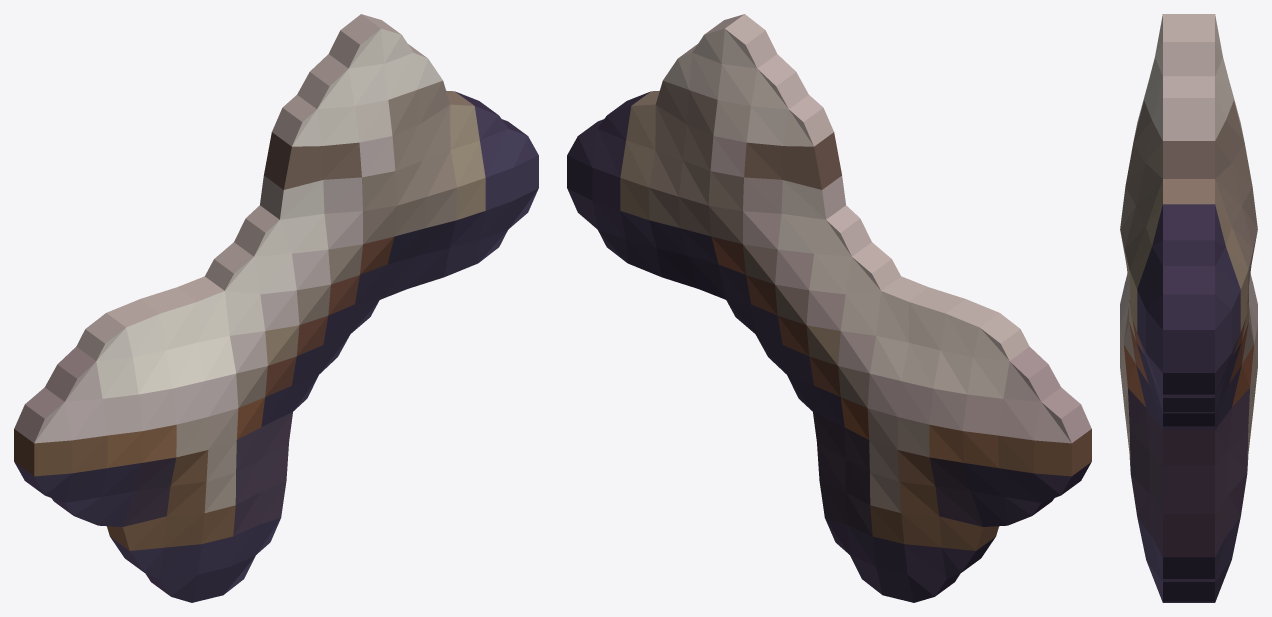
The model's file is bone.glb.
3 renders of one model, left to right at view 1: azimuth 30°, elevation 25°; view 2: azimuth 150°, elevation 25°; view 3: azimuth 270°, elevation 25°, orthographic. The views are drawn at different scales.
Visible parts, largest first — view 1: bone; view 2: bone; view 3: bone.
Part boxes in pixels (x1,y1,x2,y2): bone: (14,14,538,602); bone: (567,14,1091,602); bone: (1120,14,1257,602).
Bounding box in the file's own units: 1 × 1 × 0.1813.
1 material, 1 textured.
